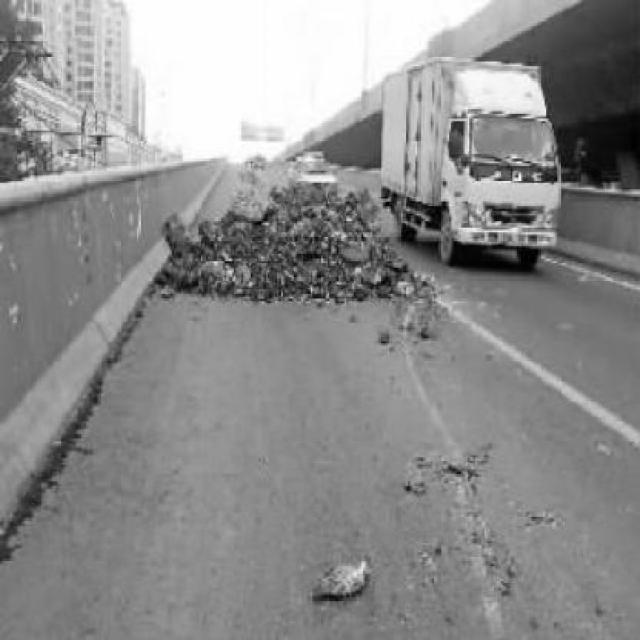garbage: (150, 180, 363, 322), (302, 562, 392, 616), (371, 240, 442, 304)
